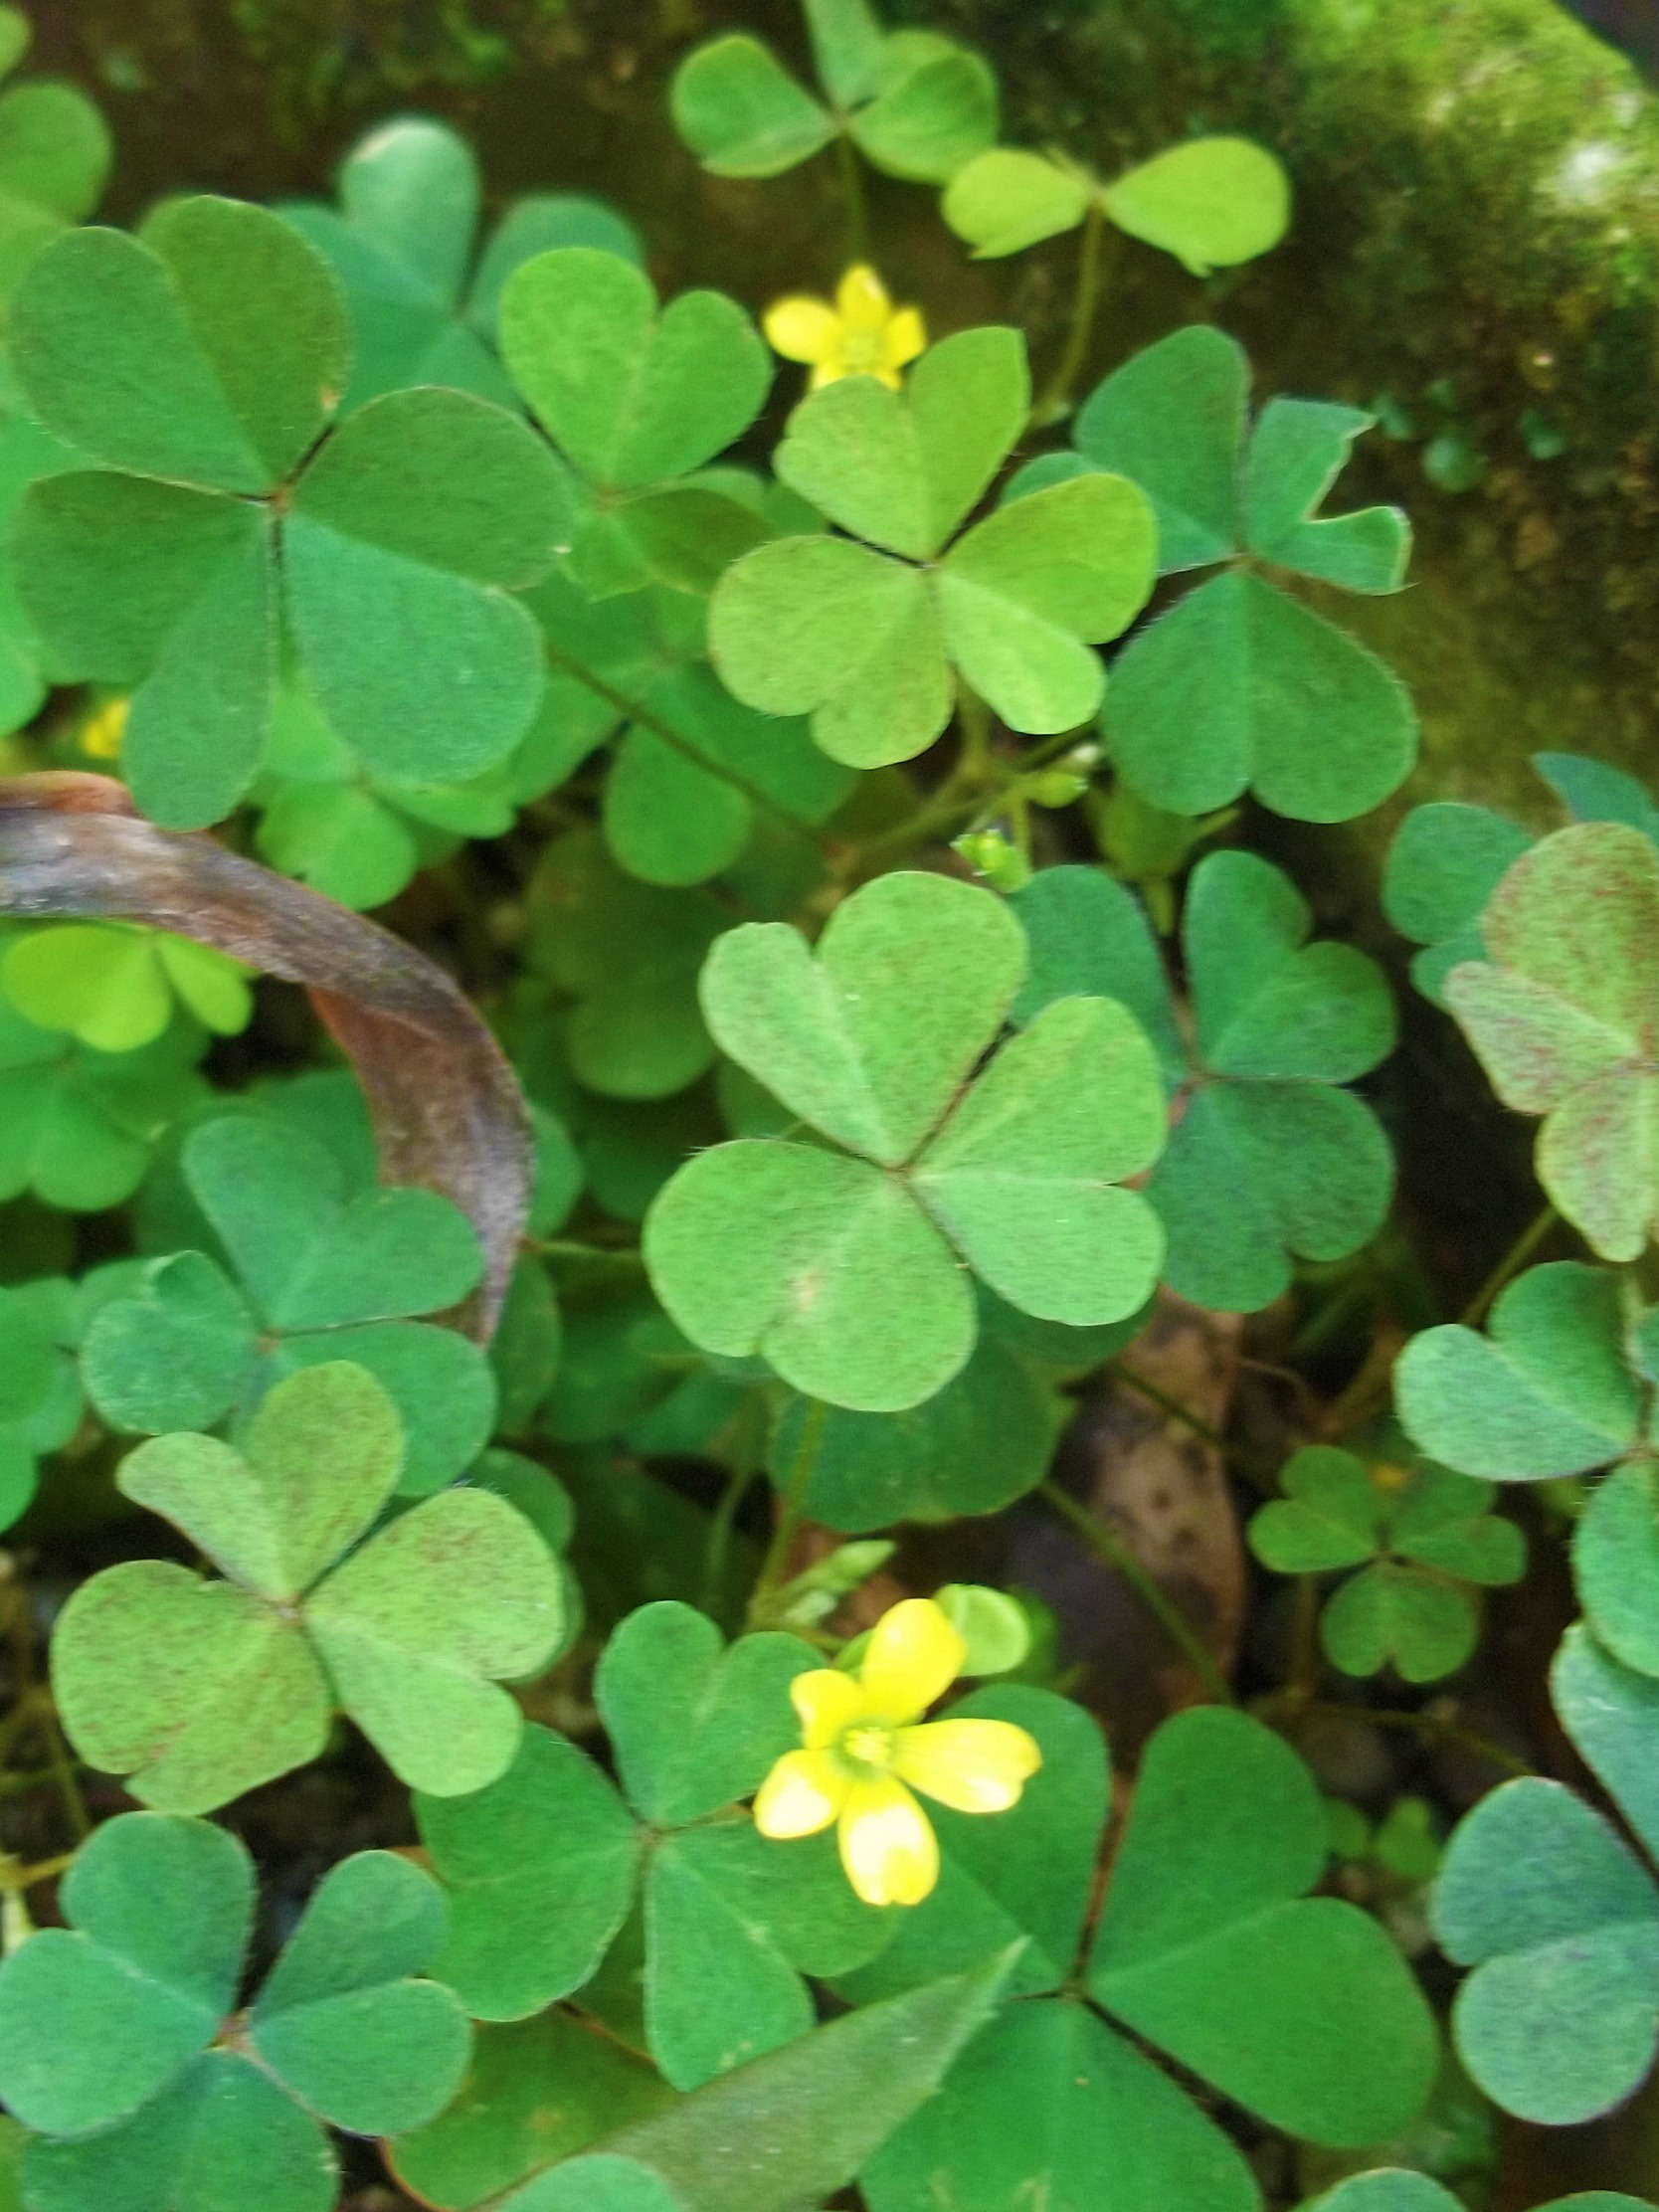clover: (12, 192, 582, 836), (627, 859, 1169, 1418), (410, 1595, 911, 2090), (45, 1352, 570, 1817), (701, 317, 1166, 779), (3, 1797, 474, 2212), (1249, 1435, 1528, 1684)
yellow wood sorrel: (749, 1590, 1051, 1909), (760, 258, 932, 409)
